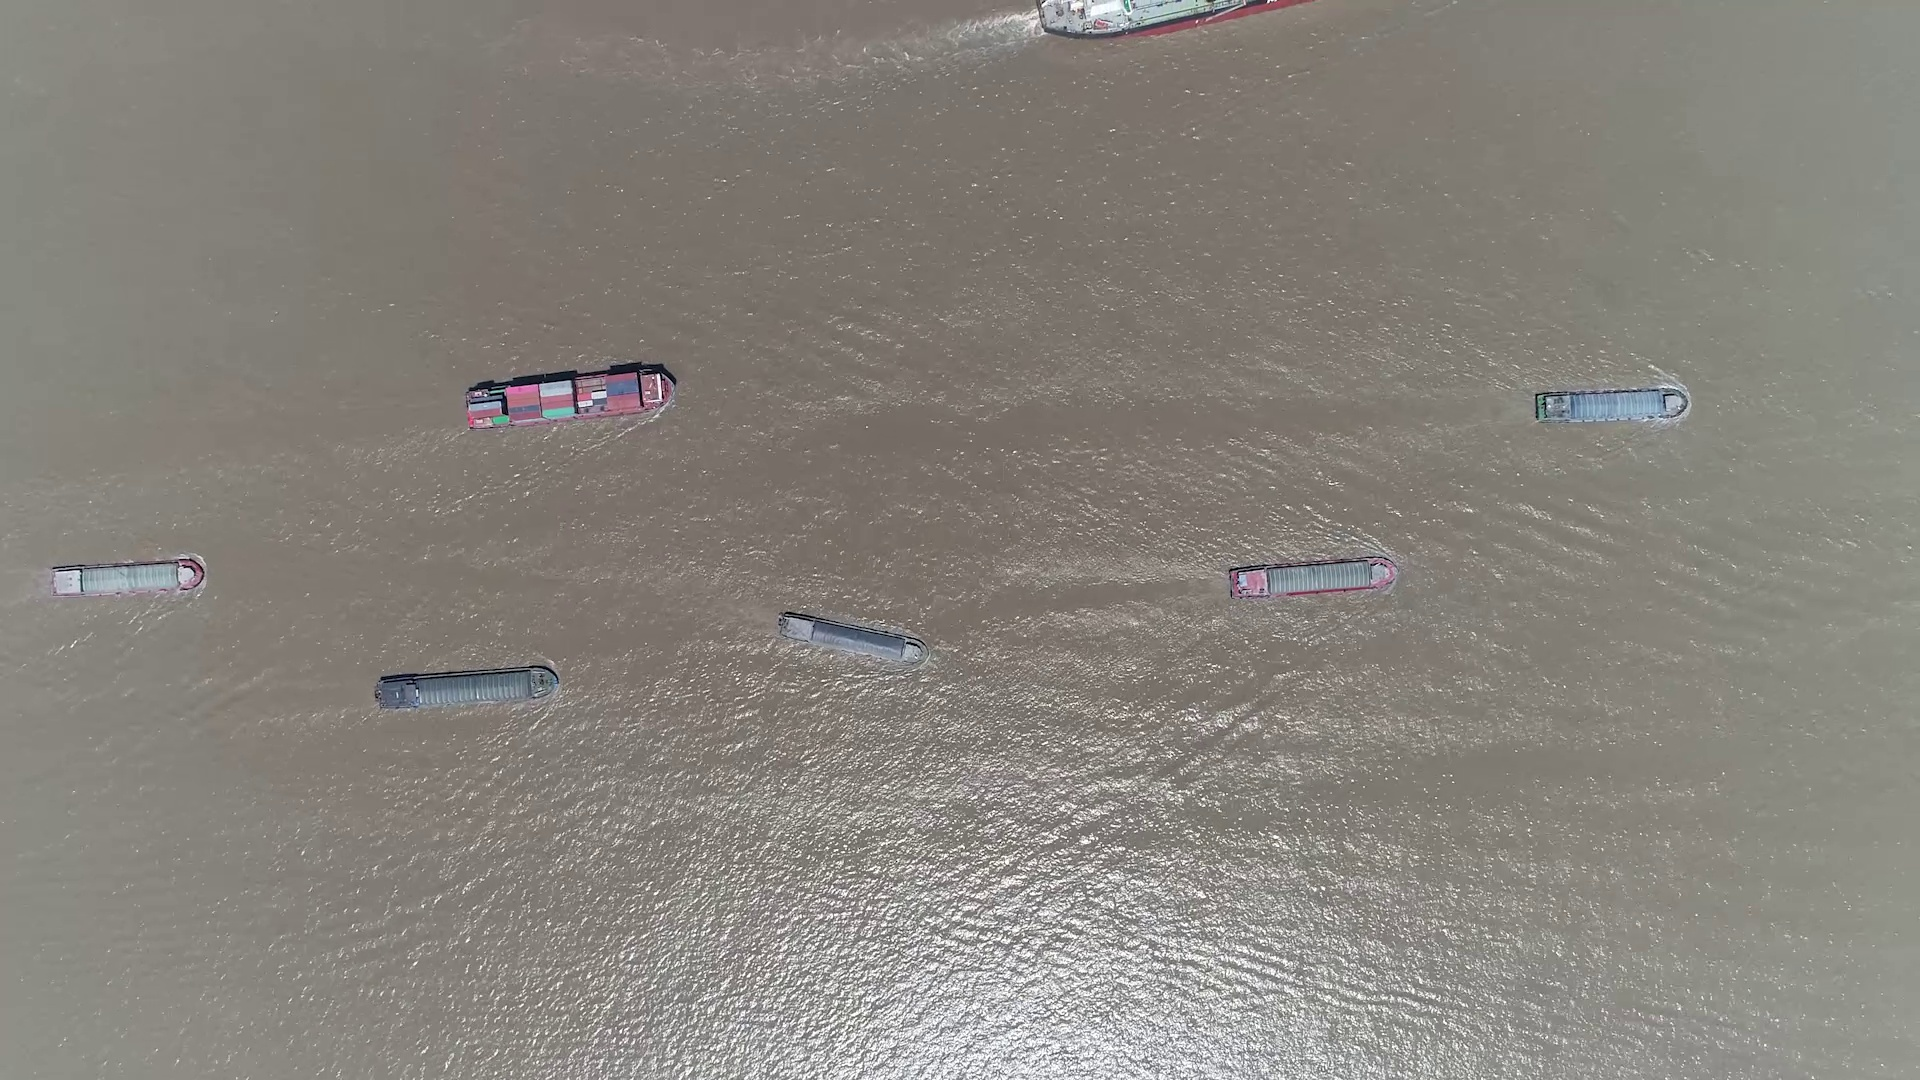ship: (464, 365, 675, 430), (778, 611, 928, 666), (377, 665, 558, 709), (1039, 1, 1305, 32), (1229, 556, 1398, 601), (46, 559, 204, 597), (1536, 389, 1687, 422)
